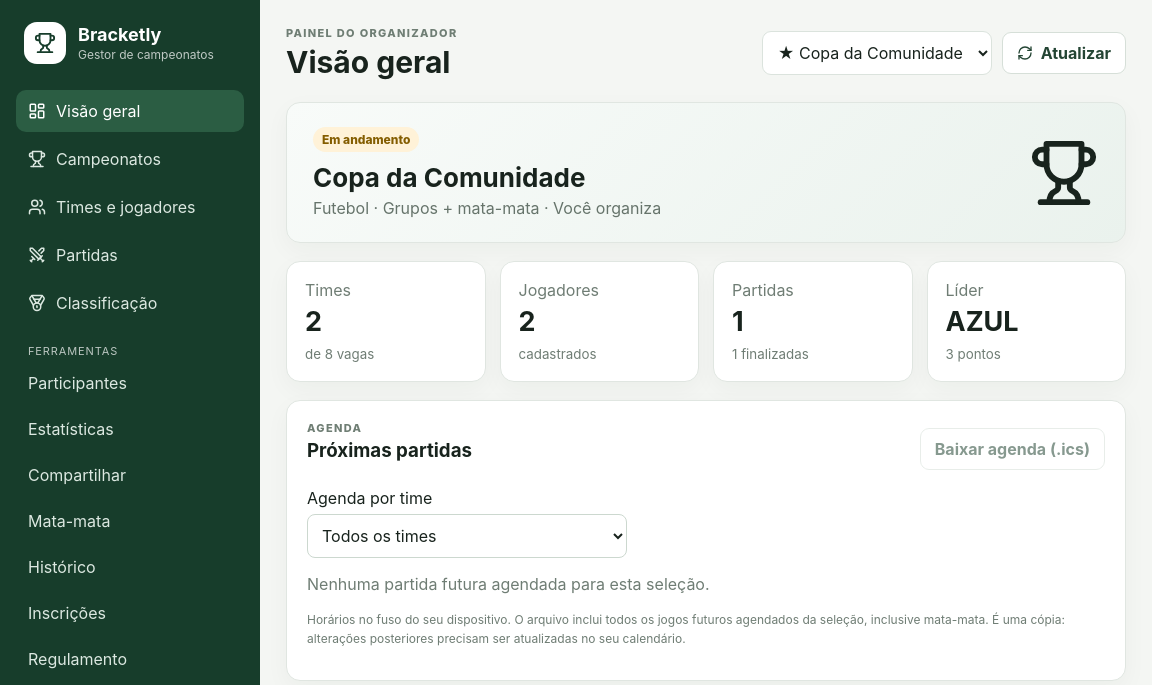
Test case: impede envios repetidos ao salvar player
This screenshot has width=1152, height=685.
Expected: the heading "Copa da Comunidade" is shown, [313,162,585,193]
Click the button "Times e jogadores".
click(130, 207)  # box [16,186,244,228]
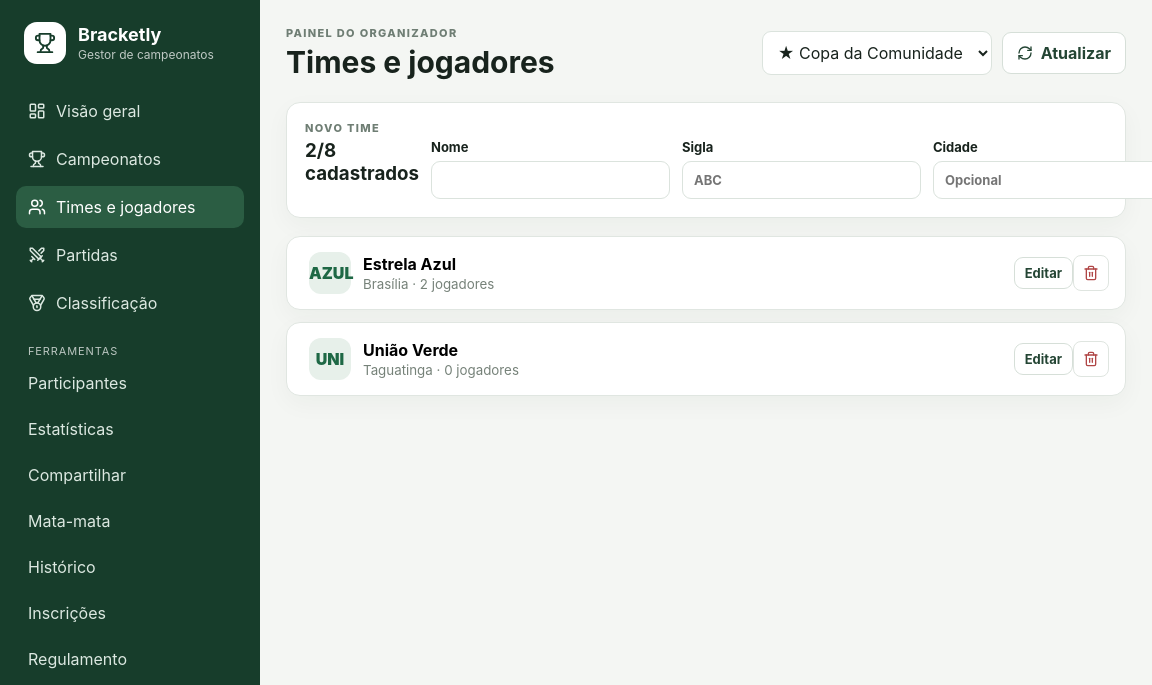
Click the button "AZUL Estrela Azul Brasília · 2 jogadores".
click(330, 273)  # box [303,251,1014,295]
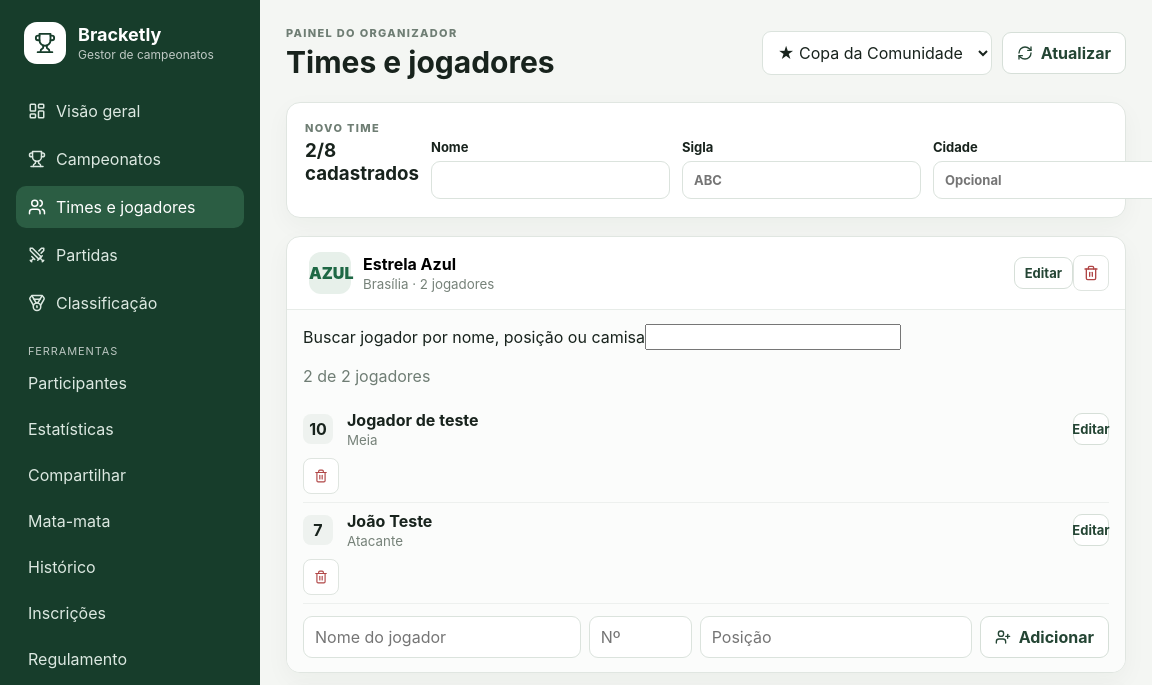
Type "Cadastro de teste" into the field labelled "Nome do jogador".
click(442, 637); type("Cadastro de teste")  # box [303,616,581,658]
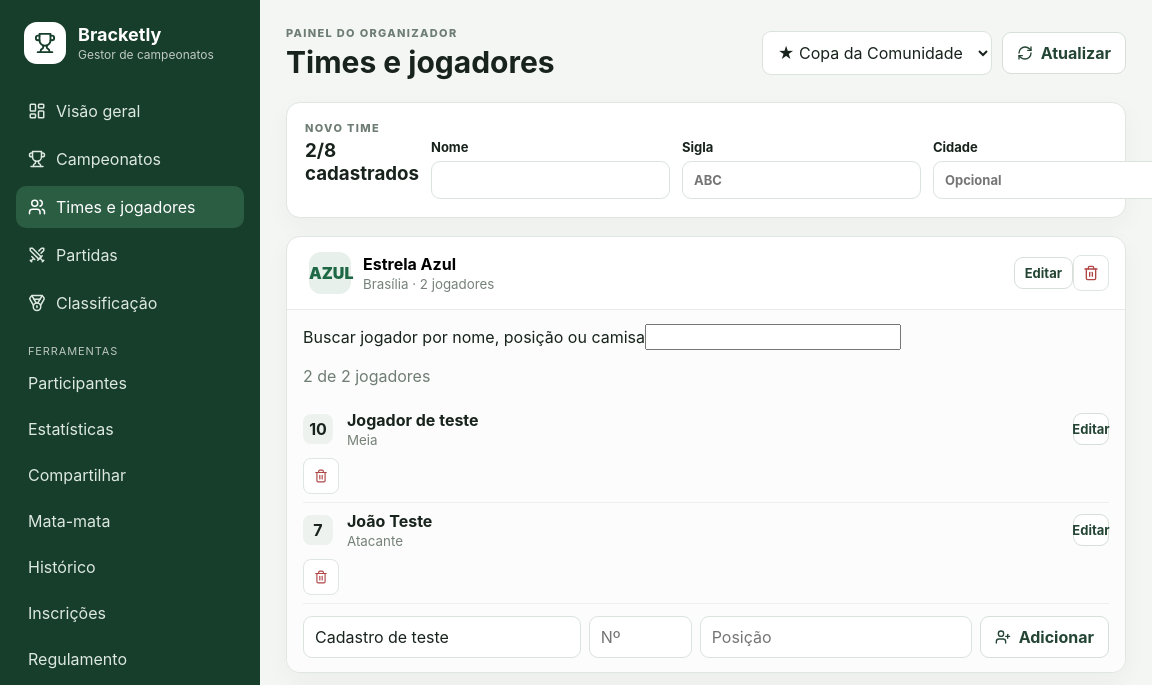
Submit the form named "Nome do jogador", box [303,616,1109,658]
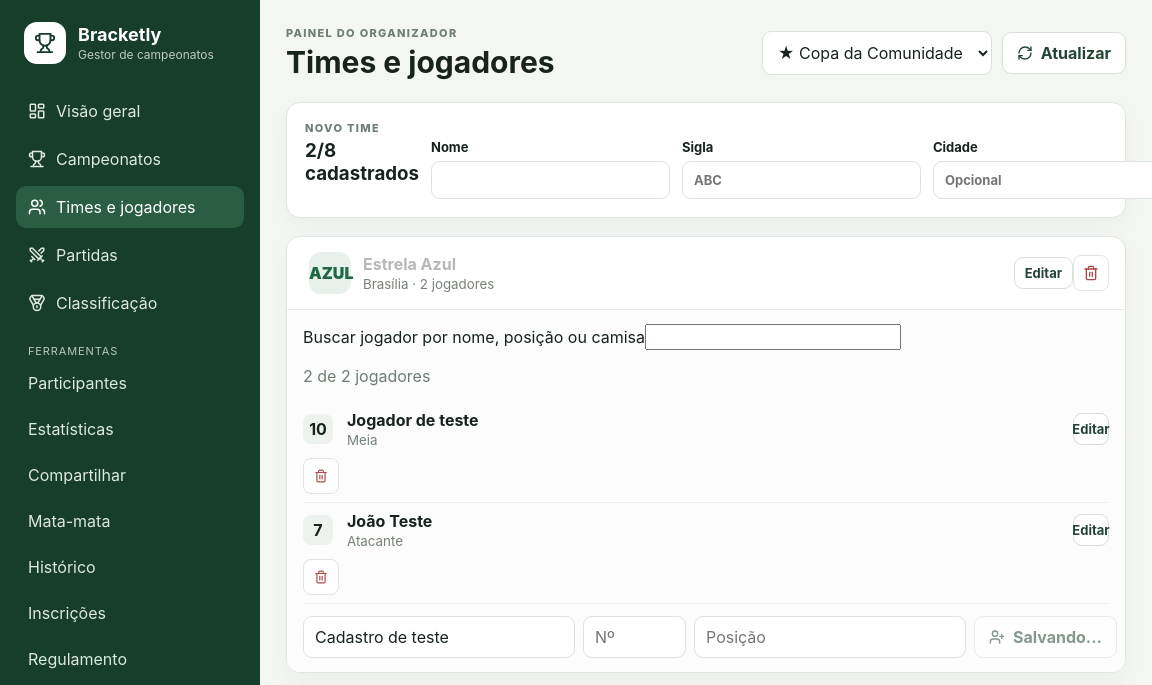
Submit the form named "Nome do jogador", box [303,616,1109,658]
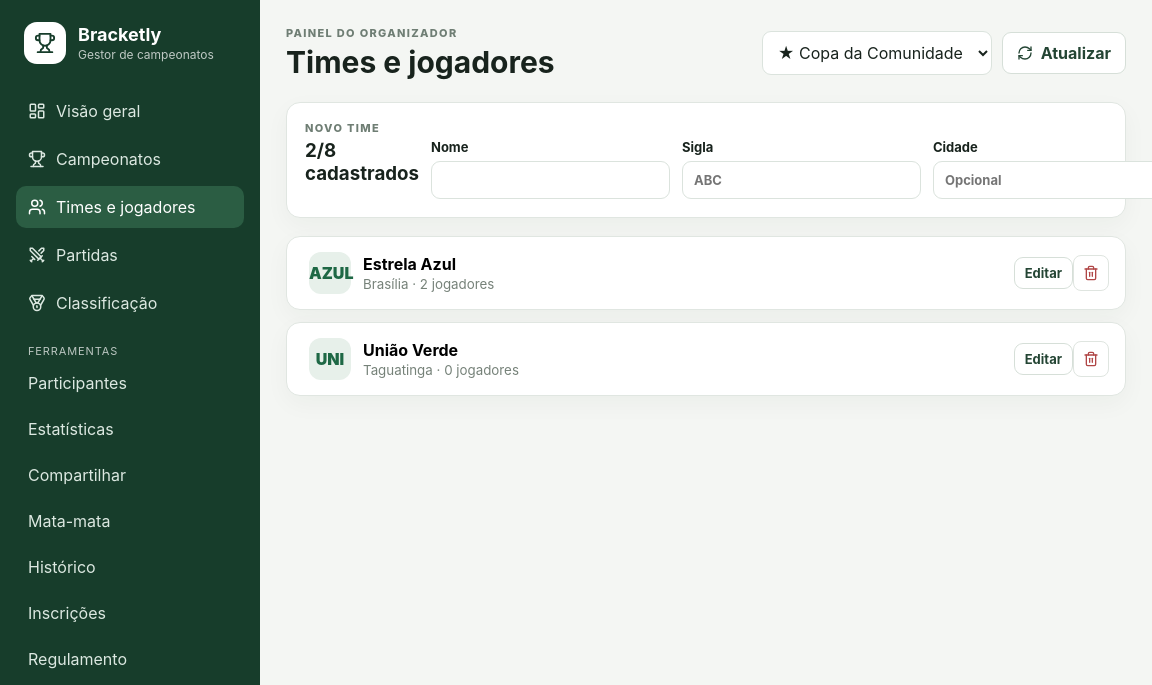
Expected: the field labelled "Nome" is enabled, [431,161,670,199]
Result: the heading "Times e jogadores" is shown at [286,44,555,80]
Result: the button "Salvando..." is gone
